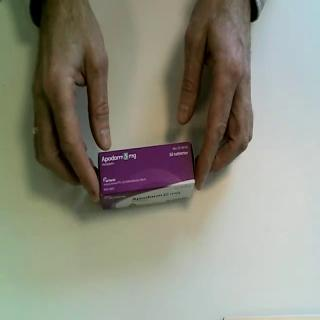apodonorm5mg: (97, 140, 198, 212)
